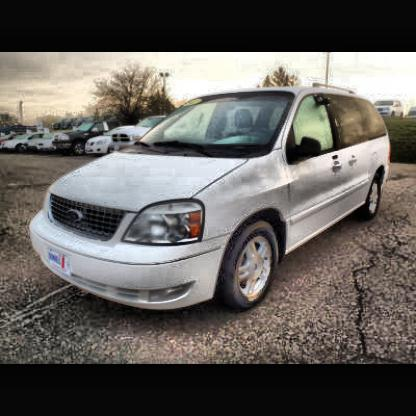Ford Freestar Minivan 2007: (29, 89, 395, 317)
